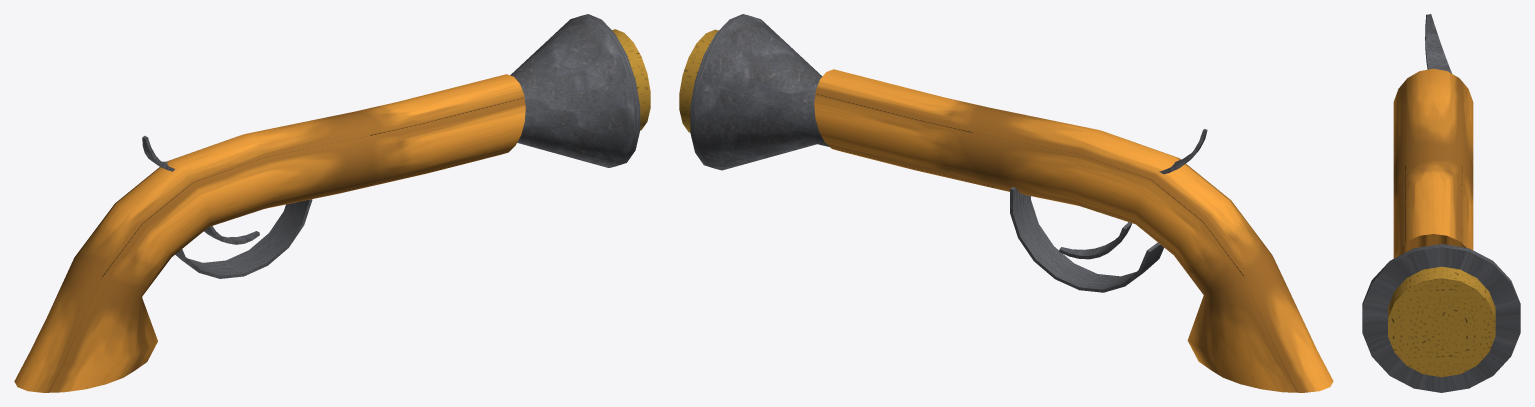
The model's file is Flintlock.fbx.
3 renders of one model, left to right at view 1: azimuth 30°, elevation 25°; view 2: azimuth 150°, elevation 25°; view 3: azimuth 270°, elevation 25°, orthographic. The views are drawn at different scales.
Parts seen in each view (by area): view 1: Cylinder004, Cylinder001, Cylinder002, Cylinder005; view 2: Cylinder004, Cylinder001, Cylinder002, Cylinder005, Sphere001; view 3: Cylinder004, Cylinder005, Cylinder001, Sphere002.
Part boxes in pixels (left/top/right/bottom): Cylinder004: left=14, top=74, right=525, bottom=392; Cylinder001: left=510, top=14, right=640, bottom=167; Cylinder002: left=175, top=199, right=312, bottom=278; Cylinder005: left=612, top=29, right=650, bottom=130; Cylinder004: left=814, top=69, right=1333, bottom=392; Cylinder001: left=690, top=14, right=829, bottom=170; Cylinder002: left=1010, top=187, right=1163, bottom=292; Cylinder005: left=679, top=29, right=718, bottom=132; Sphere001: left=1059, top=222, right=1131, bottom=259; Cylinder004: left=1393, top=68, right=1473, bottom=258; Cylinder005: left=1388, top=266, right=1495, bottom=377; Cylinder001: left=1362, top=244, right=1520, bottom=392; Sphere002: left=1425, top=14, right=1452, bottom=73.
Bounding box in the file's own units: 26.17 × 9.06 × 5.71.
Materials: 3 (3 with a texture image).
